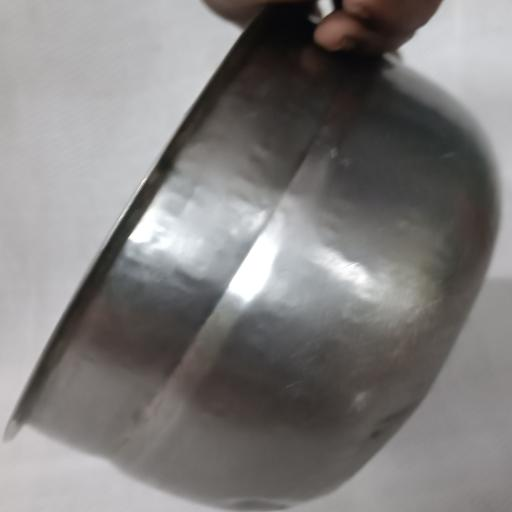vessel: (7, 9, 498, 510)
